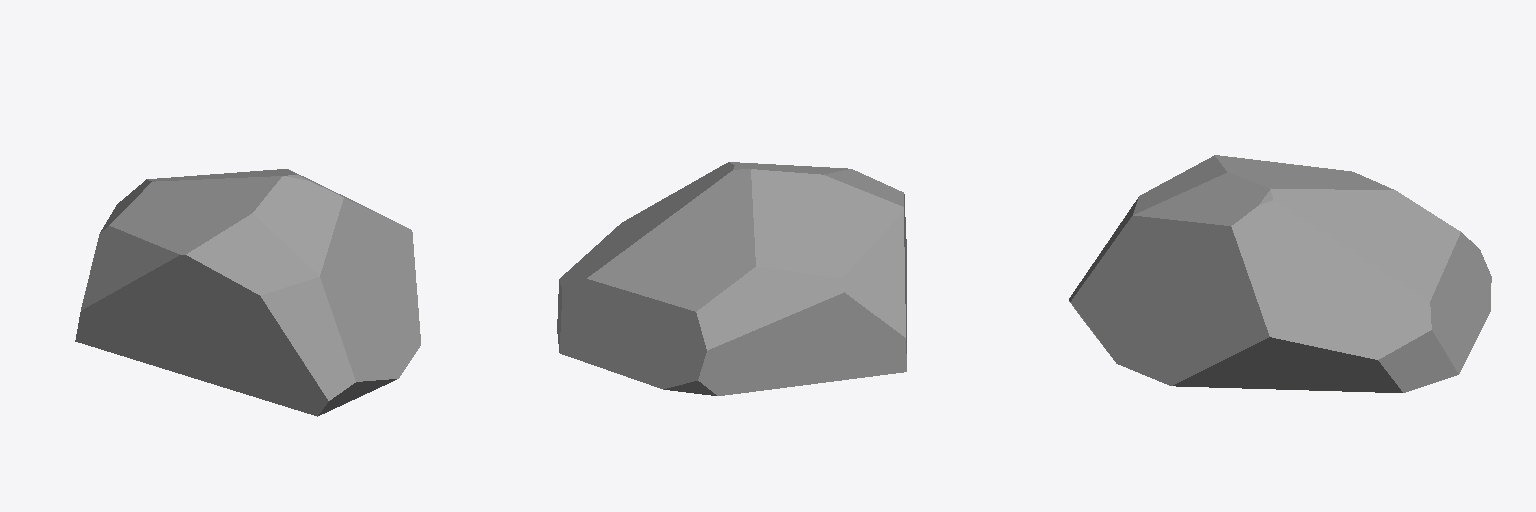
The model's file is rock01.obj.
The picture shows the model from 3 angles: view 1: azimuth 30°, elevation 25°; view 2: azimuth 150°, elevation 25°; view 3: azimuth 270°, elevation 25°; orthographic projection.
Visible parts, largest first — view 1: Cube.004_Cube.001; view 2: Cube.004_Cube.001; view 3: Cube.004_Cube.001.
Boxes of the visible parts, box(x1,y1,x2,y2) form: Cube.004_Cube.001: box(75, 169, 420, 416); Cube.004_Cube.001: box(557, 162, 906, 395); Cube.004_Cube.001: box(1069, 155, 1491, 392).
Size of the model in its own units: 29.87 by 13.92 by 34.25.